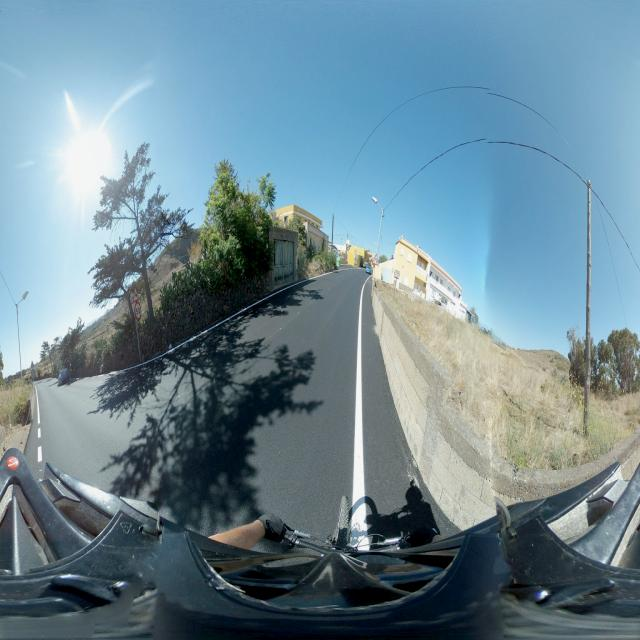car: (57, 368, 70, 386)
